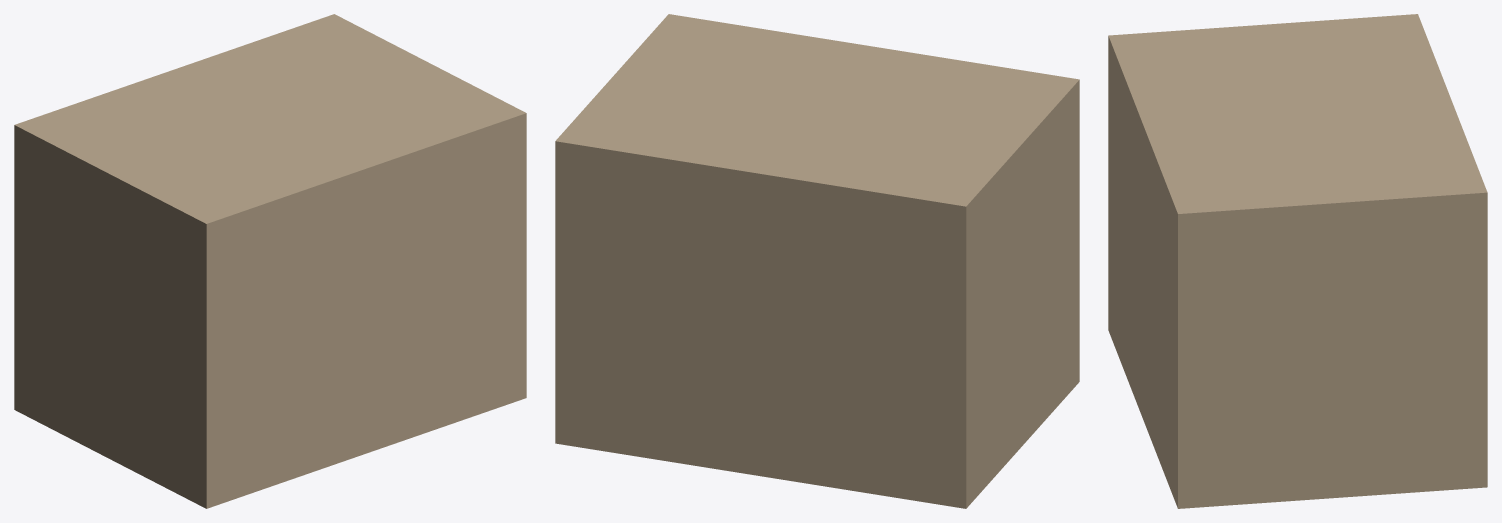
File: bld_107639060.dae
3 renders of one model, left to right at view 1: azimuth 30°, elevation 25°; view 2: azimuth 150°, elevation 25°; view 3: azimuth 270°, elevation 25°, orthographic. The views are drawn at different scales.
Parts seen in each view (by area): view 1: bld_107639060; view 2: bld_107639060; view 3: bld_107639060.
Part boxes in pixels (x1,y1,x2,y2): bld_107639060: [14, 14, 526, 508]; bld_107639060: [555, 14, 1079, 508]; bld_107639060: [1108, 14, 1487, 508].
Bounding box in the file's own units: 11.65 × 9.33 × 8.
